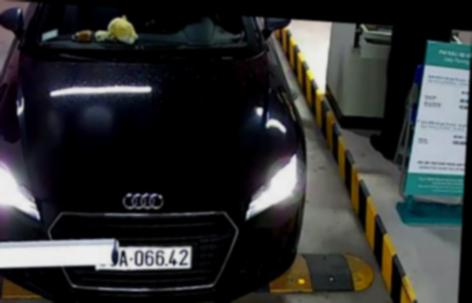License_Plate: (91, 239, 197, 277)
